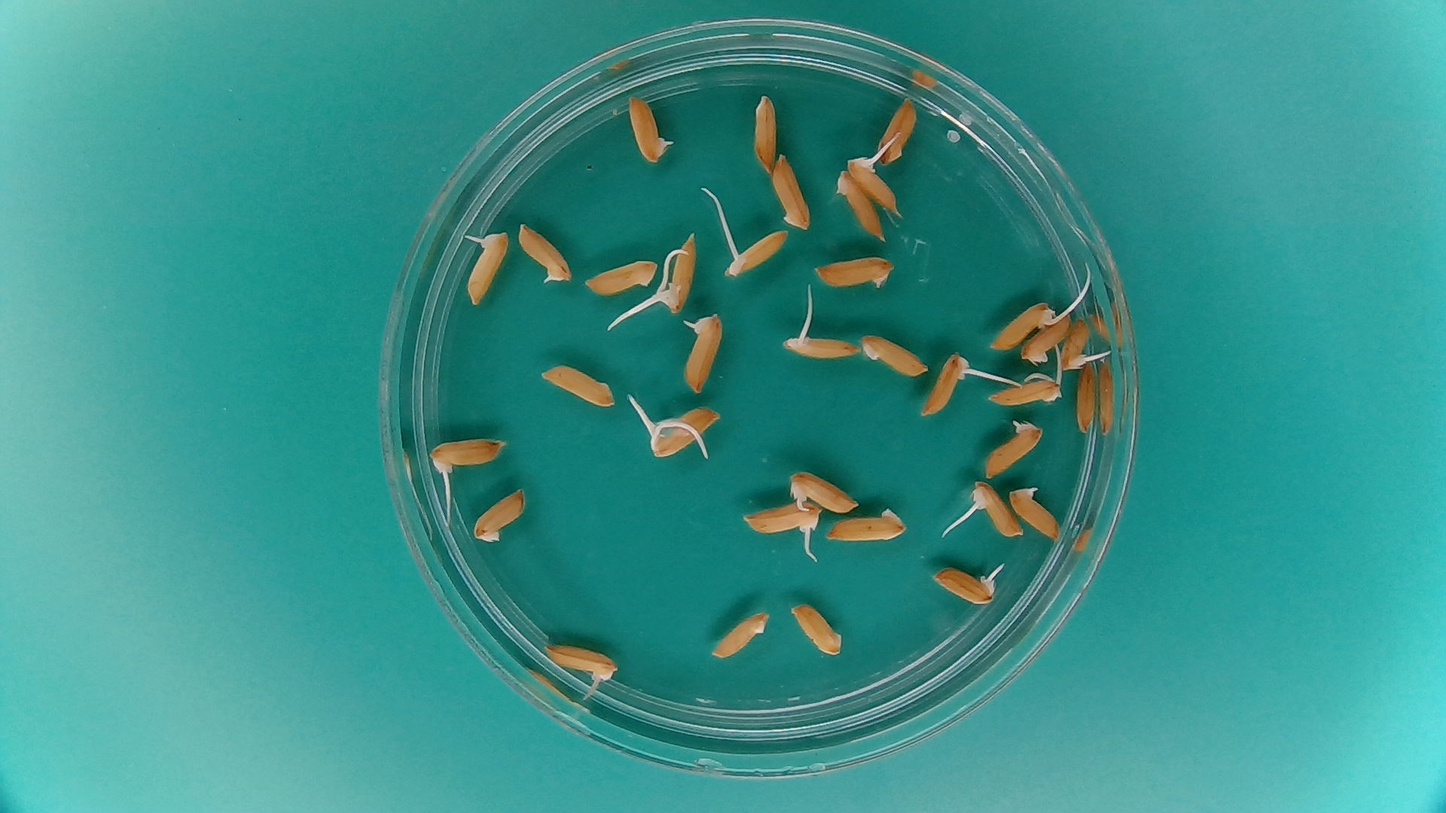no: (831, 170, 886, 244), (539, 361, 617, 407), (811, 251, 896, 292), (770, 151, 813, 231), (471, 484, 529, 543), (708, 608, 771, 661), (825, 504, 908, 544), (582, 257, 661, 299), (789, 599, 845, 657), (859, 332, 930, 376), (877, 96, 919, 170), (1020, 313, 1071, 364), (750, 89, 779, 175), (1075, 358, 1100, 434)
yes: (984, 408, 1047, 479), (679, 310, 726, 397), (516, 219, 574, 285), (646, 406, 719, 458), (720, 227, 789, 280), (626, 90, 675, 164), (786, 469, 861, 516), (987, 300, 1054, 352), (431, 434, 508, 477), (967, 480, 1023, 539), (1008, 483, 1063, 543), (850, 152, 901, 214), (467, 231, 509, 306), (932, 562, 1005, 605), (660, 233, 700, 309), (923, 349, 967, 418), (542, 641, 614, 681), (988, 373, 1062, 410), (744, 501, 822, 534), (781, 330, 860, 361), (1060, 317, 1093, 375)
